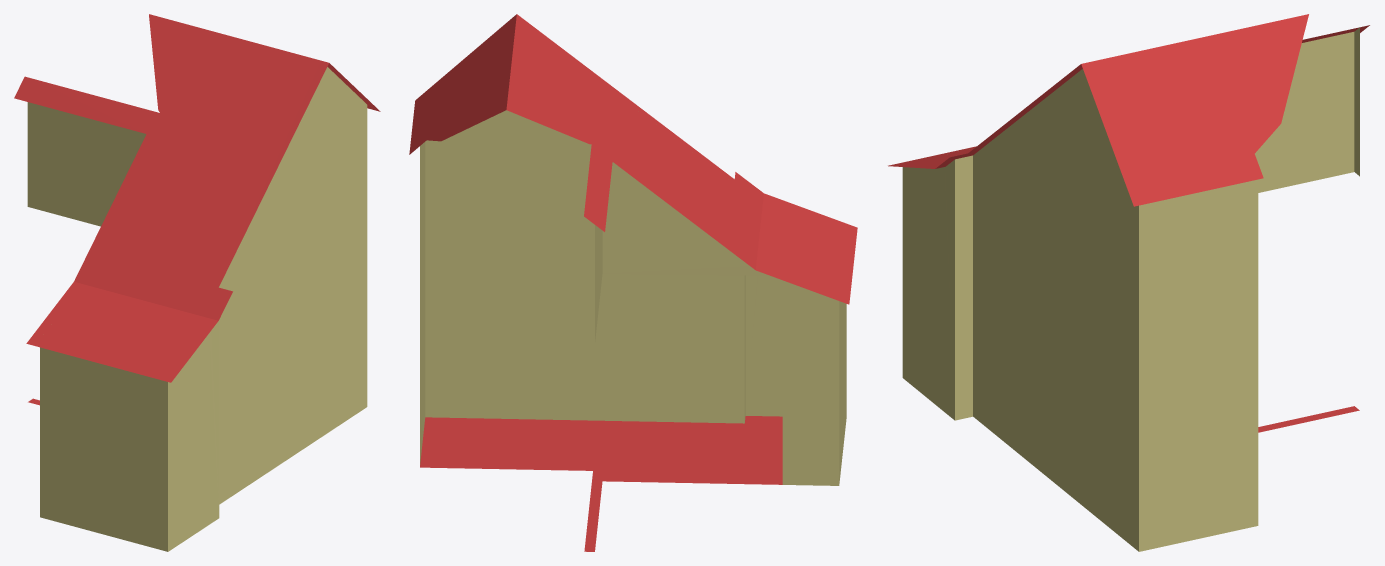
3 views of the same model, side by side, from view 1: azimuth 30°, elevation 25°; view 2: azimuth 150°, elevation 25°; view 3: azimuth 270°, elevation 25° (orthographic). The views are drawn at different scales.
Bounding box in the file's own units: 11.07 × 10.15 × 10.46.
